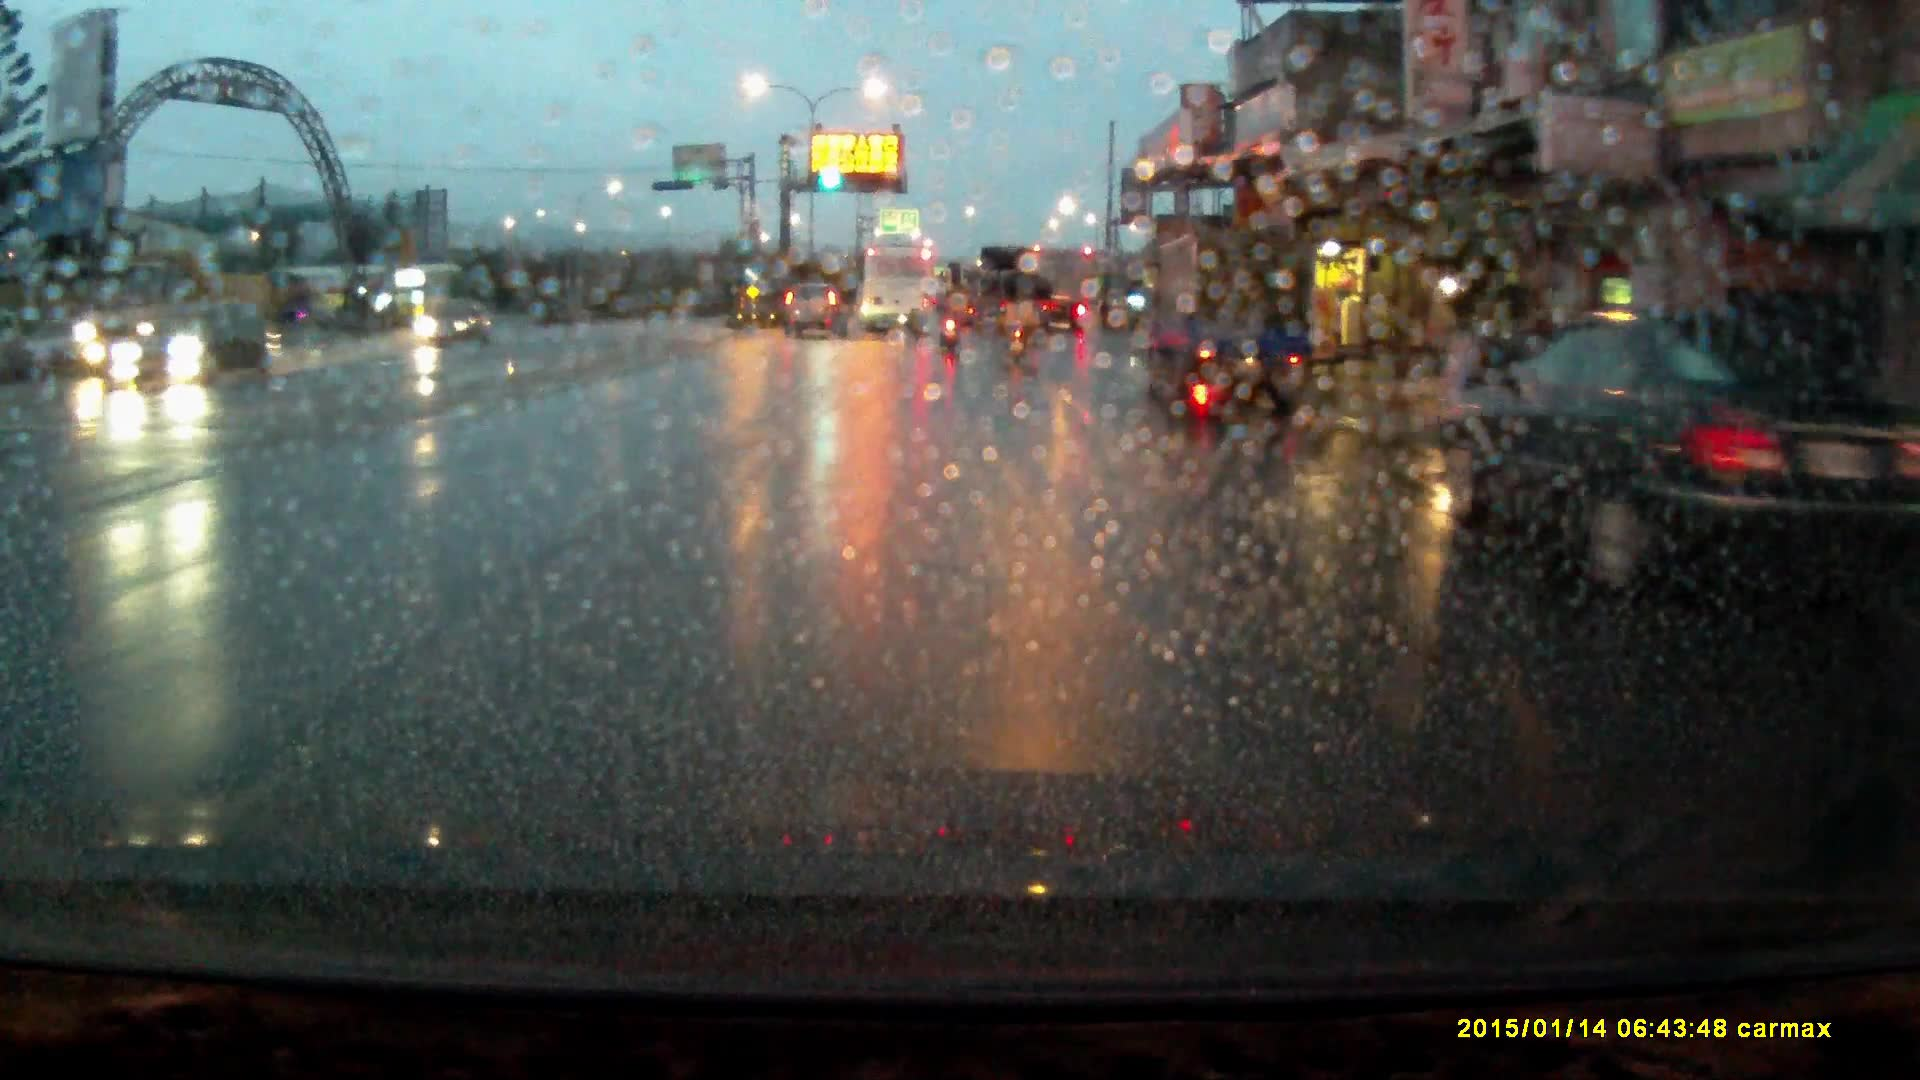rider: (1000, 276, 1038, 360), (934, 276, 967, 343)
vehicle: (1432, 303, 1890, 595), (1140, 224, 1318, 396), (71, 251, 291, 370), (120, 310, 270, 396), (862, 242, 933, 334), (982, 247, 1049, 335), (409, 297, 492, 350), (783, 270, 849, 331)
